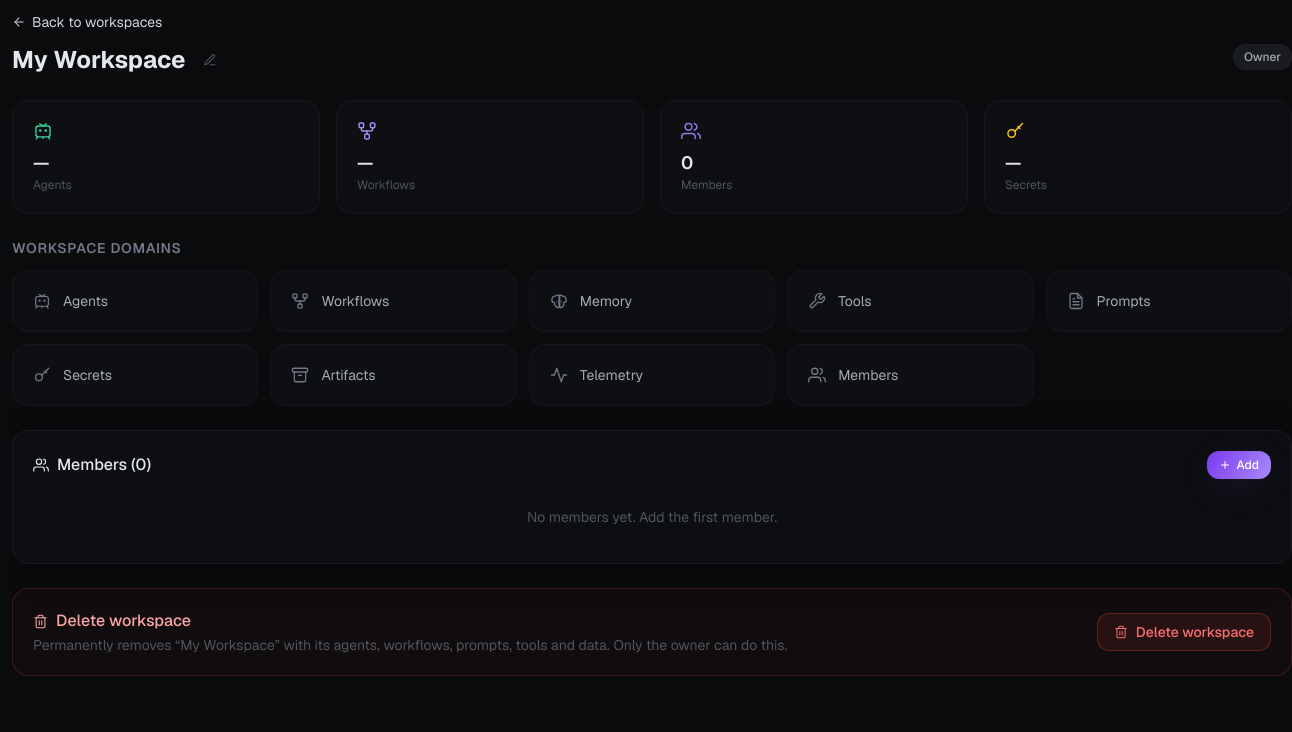
Test case: WorkspaceDetail — rename & delete sync › renames inline and keeps the shared store in sync
Expected: the heading "My Workspace" is shown, [12,44,226,76]
Click the button named "rename workspace": [210, 60] box [194,44,226,76]
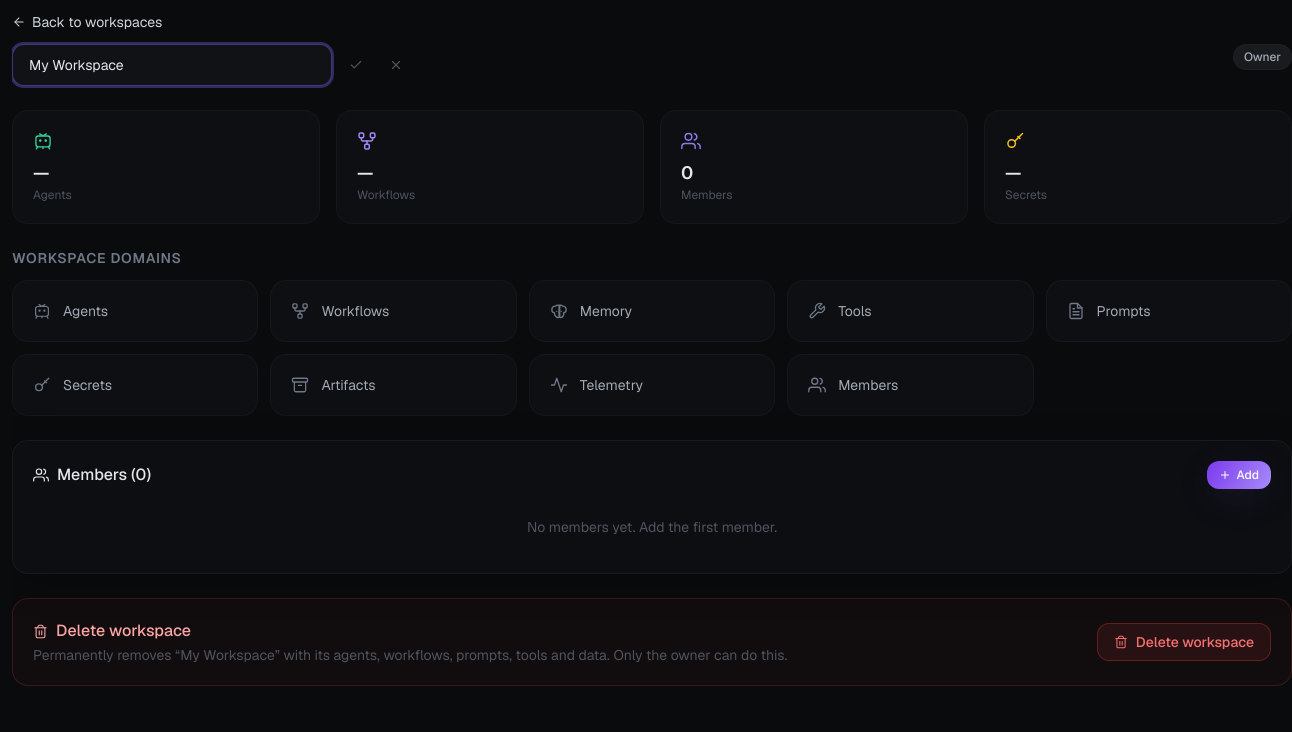
Replace the text in the field named "Workspace name" with "Renamed Workspace": [172, 65] box [12,44,332,86]
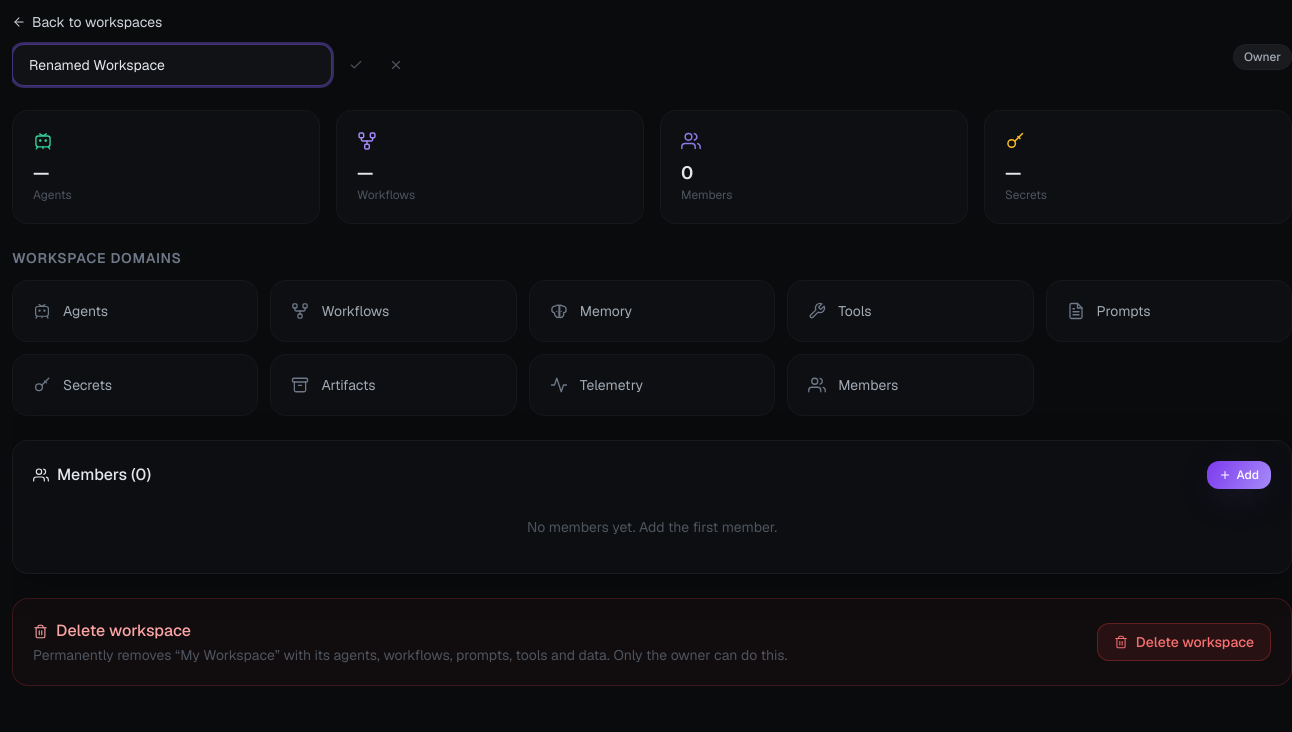
Click the button named "save name": [356, 65] box [340,49,372,81]
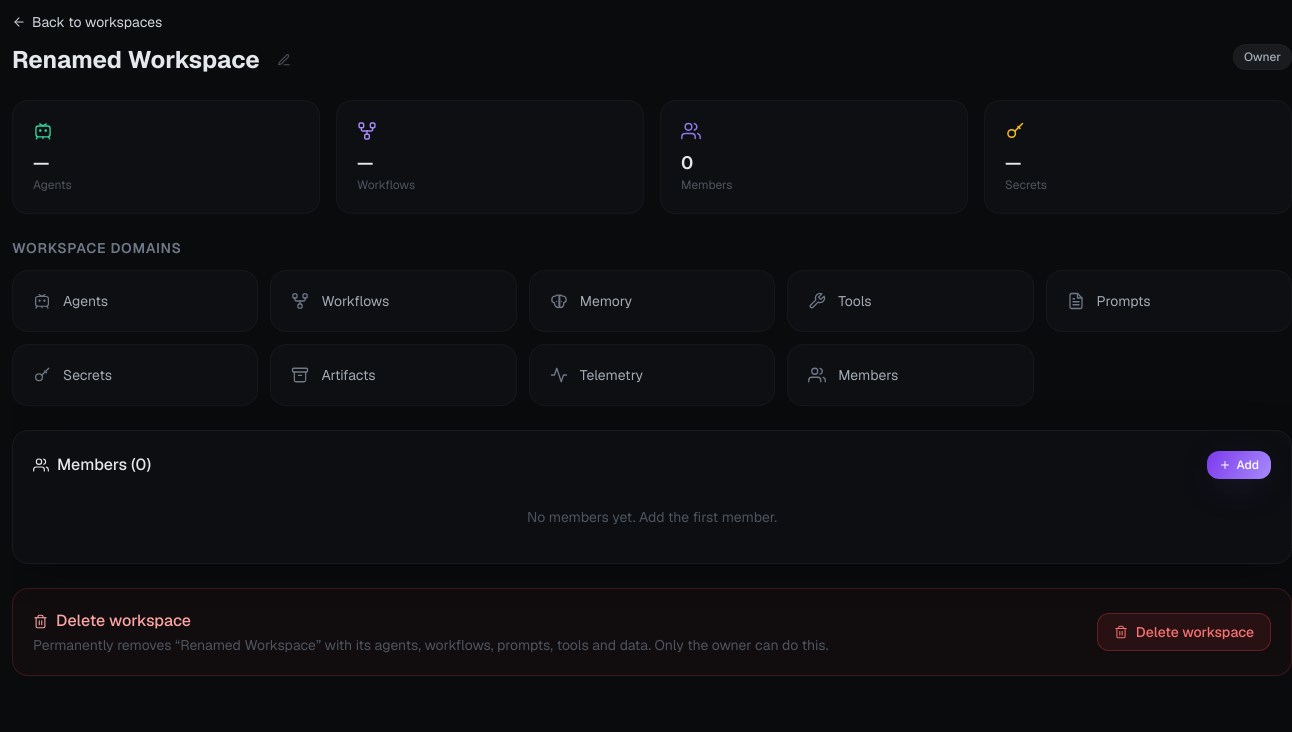
Expected: the heading "Renamed Workspace" reads "Renamed Workspace", [12,44,260,75]
Expected: the heading "Renamed Workspace" is shown, [12,44,300,76]
